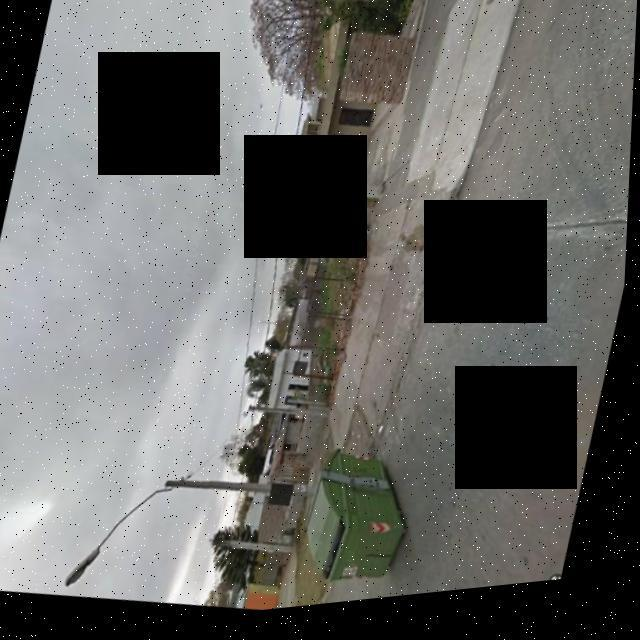bin: (283, 431, 439, 615)
